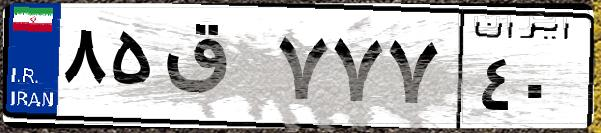0: (525, 38, 570, 115)
4: (475, 38, 525, 113)
5: (110, 28, 158, 98)
7: (270, 28, 330, 110), (385, 28, 445, 110), (330, 28, 385, 110)
8: (57, 26, 110, 100)
ق: (158, 20, 270, 120)
